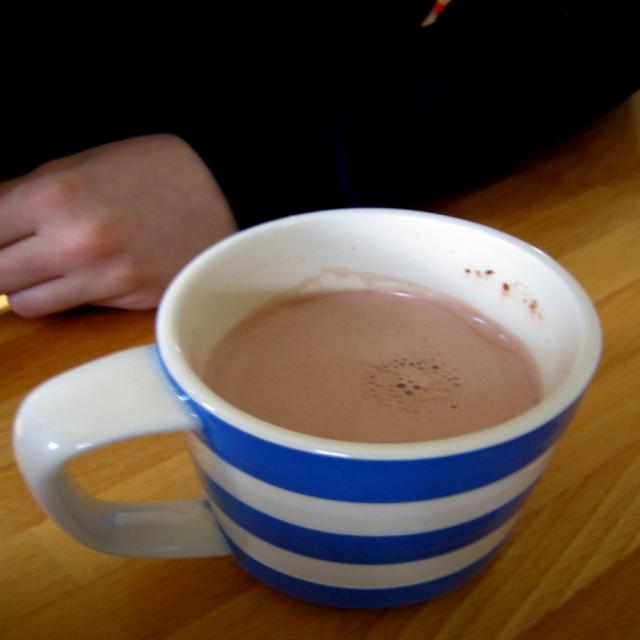Coffee: (210, 279, 560, 433)
Tea: (206, 270, 536, 444)
